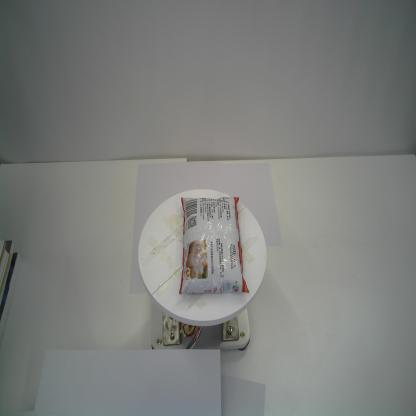Seasoner: (178, 196, 251, 296)
